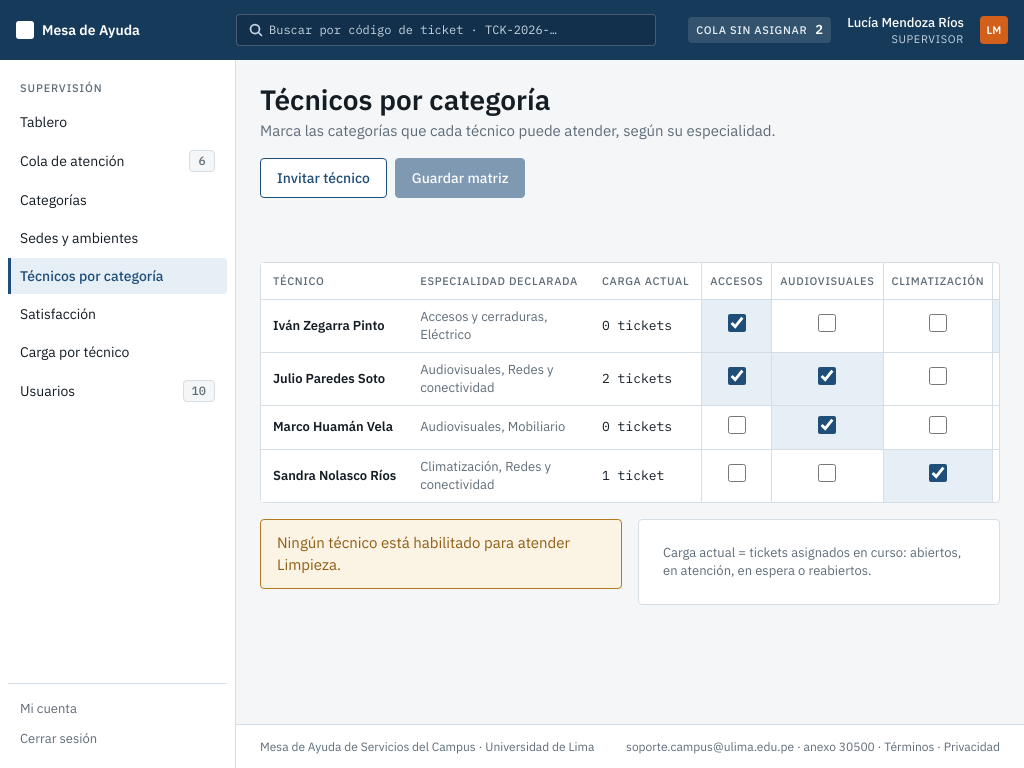
Test: InvitarTecnicoButton › sin datos ingresados se cierra sin pedir confirmación
Expected: the table named "Categorías habilitadas por técnico" is shown, [261, 263, 999, 502]
Expected: the text "Cola sin asignar" is shown, [696, 22, 807, 38]
Click the button "Invitar técnico" at x=323, y=178, box [260, 158, 387, 198]
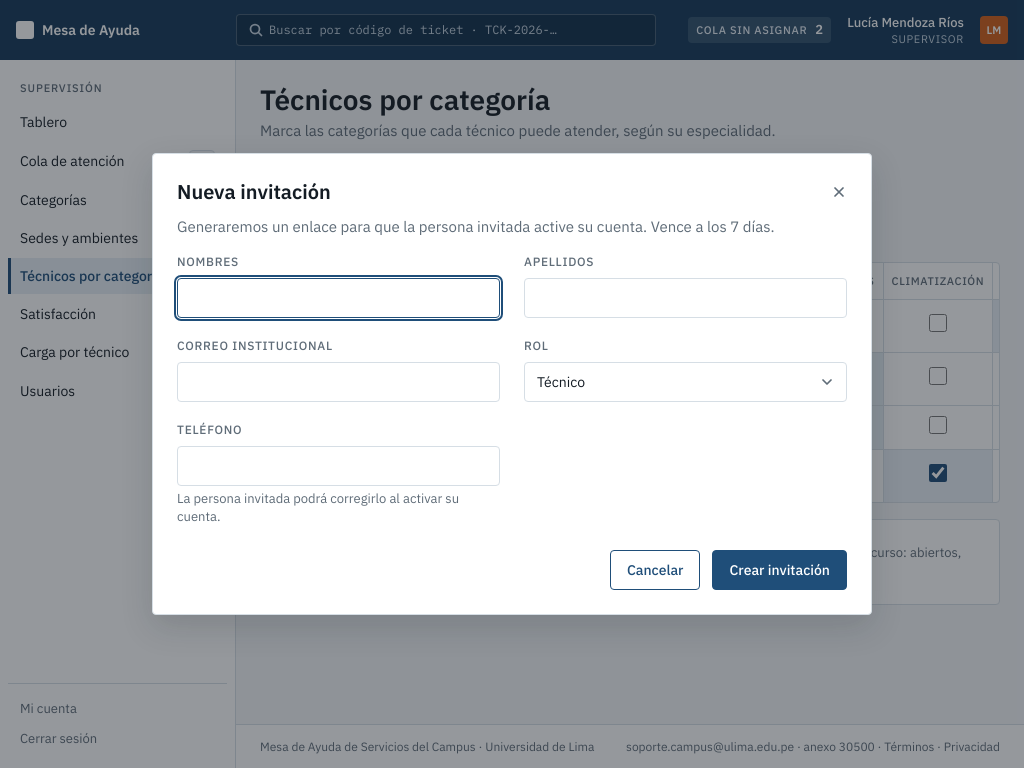
Click the button "Cancelar" at x=655, y=570, box [610, 550, 700, 590]
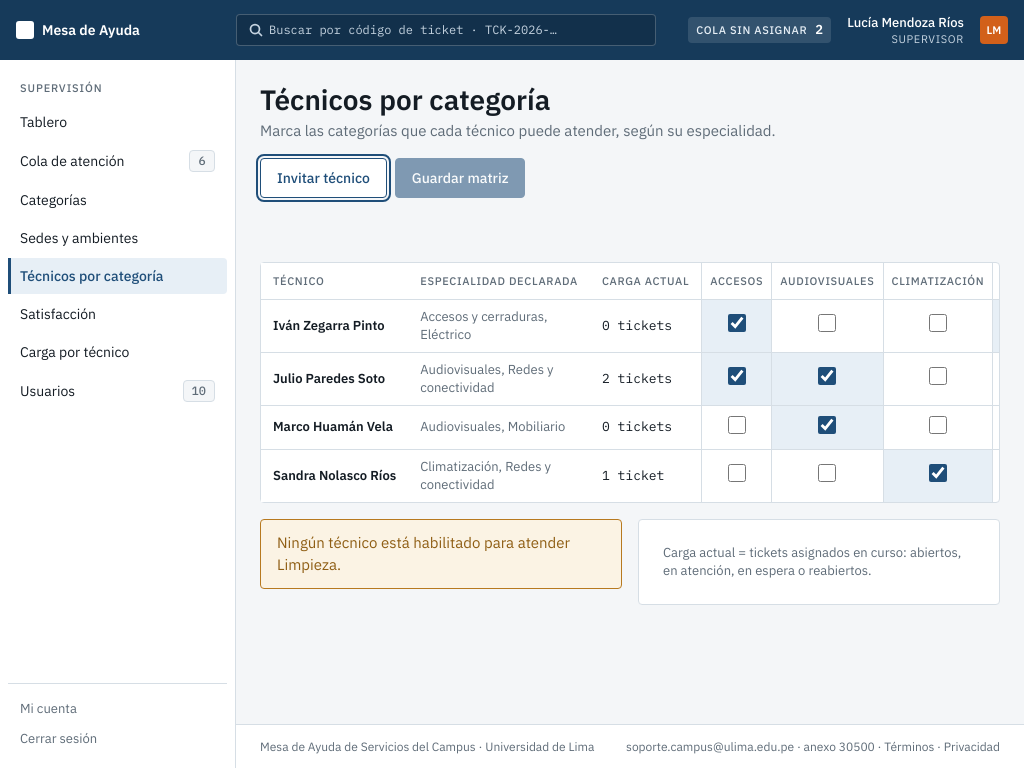
Now the dialog is gone
